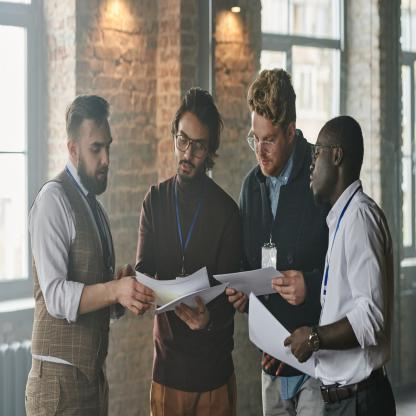Eye: (179, 136, 187, 145), (194, 143, 203, 150), (91, 147, 100, 154), (315, 149, 320, 159), (266, 138, 274, 142), (254, 135, 259, 141), (106, 144, 110, 150)
Mouth: (180, 163, 193, 172), (97, 170, 107, 178), (260, 159, 269, 166), (310, 173, 314, 188)
Nose: (101, 148, 110, 165), (184, 144, 193, 160), (258, 145, 266, 156), (310, 161, 315, 172)
